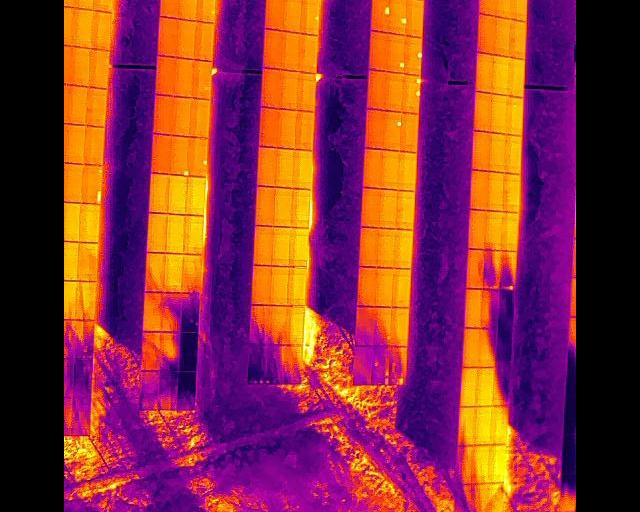Cell: (193, 58, 211, 98), (384, 110, 402, 150), (189, 137, 207, 176), (172, 136, 189, 176), (373, 305, 390, 345), (302, 0, 320, 34), (389, 32, 404, 72), (390, 0, 407, 35), (372, 0, 390, 32)
Cell-Multi: (82, 165, 102, 203), (403, 73, 420, 113), (404, 35, 421, 75), (390, 345, 407, 383), (374, 345, 389, 383), (197, 0, 216, 23)
No-Anomaly: (88, 47, 110, 87), (70, 8, 93, 46), (79, 203, 101, 242), (87, 85, 108, 125), (66, 86, 88, 124), (188, 98, 209, 137), (69, 46, 89, 86), (251, 265, 271, 305), (148, 212, 168, 252), (151, 133, 171, 173), (64, 125, 85, 163), (370, 29, 389, 71), (253, 226, 273, 265), (257, 147, 277, 186), (149, 173, 169, 212), (85, 125, 105, 164), (92, 9, 112, 48), (156, 55, 175, 95), (255, 185, 274, 225), (159, 17, 178, 56), (175, 57, 194, 96), (184, 213, 203, 252), (259, 108, 278, 147), (264, 29, 283, 68), (291, 188, 310, 227), (393, 267, 412, 306), (385, 71, 403, 112), (296, 111, 315, 149), (80, 242, 99, 280), (167, 213, 185, 253), (271, 265, 289, 305), (276, 147, 294, 187), (289, 265, 307, 305), (381, 188, 399, 228), (398, 150, 416, 190), (473, 443, 491, 483), (183, 252, 201, 291), (278, 108, 296, 147), (280, 70, 298, 109), (492, 405, 510, 444), (503, 172, 521, 211), (289, 226, 307, 265), (300, 33, 318, 72), (378, 227, 396, 266), (470, 170, 488, 209), (474, 92, 492, 131), (477, 15, 495, 54), (178, 17, 195, 58), (365, 147, 382, 188), (369, 69, 386, 110), (64, 163, 82, 201), (154, 95, 172, 133), (172, 96, 189, 136), (282, 30, 299, 70), (294, 148, 311, 188), (359, 266, 376, 306), (361, 226, 378, 266), (368, 109, 385, 149), (402, 111, 419, 151), (472, 131, 489, 171), (165, 252, 182, 291), (187, 176, 204, 215), (195, 21, 212, 60), (263, 69, 280, 108), (288, 305, 305, 344), (486, 210, 503, 249), (493, 55, 510, 94), (506, 95, 523, 134), (299, 72, 316, 111), (376, 267, 393, 306), (392, 306, 409, 345), (398, 190, 415, 229), (460, 366, 477, 405), (466, 249, 483, 288), (468, 209, 485, 248), (477, 367, 494, 406), (382, 148, 398, 189), (169, 175, 186, 213), (395, 229, 412, 267), (475, 405, 492, 443), (476, 53, 493, 91), (273, 225, 289, 265), (490, 132, 506, 172), (64, 240, 80, 280), (463, 326, 479, 366), (275, 187, 291, 226), (491, 444, 507, 483), (506, 134, 522, 173), (364, 188, 380, 227), (465, 288, 481, 327), (509, 57, 525, 95), (510, 18, 525, 58), (64, 202, 80, 239), (488, 171, 503, 210), (503, 211, 518, 250), (407, 0, 423, 36), (495, 17, 510, 55), (283, 0, 301, 31), (492, 93, 506, 132), (64, 280, 77, 319), (266, 0, 283, 29), (180, 0, 197, 21), (161, 0, 179, 18), (512, 0, 528, 18), (479, 0, 497, 15), (497, 0, 512, 17), (95, 0, 114, 13), (74, 0, 95, 8)
Shadowing: (248, 344, 268, 383), (160, 370, 179, 410), (181, 291, 200, 331), (250, 305, 270, 343), (143, 330, 162, 370), (162, 291, 181, 330), (73, 396, 92, 435), (77, 280, 96, 319), (76, 319, 95, 357), (355, 345, 374, 383), (162, 330, 180, 370), (74, 357, 92, 397), (147, 251, 165, 291), (356, 305, 374, 345), (180, 331, 198, 370), (270, 305, 288, 344), (145, 291, 163, 330), (179, 370, 196, 410), (268, 343, 285, 383), (143, 369, 160, 409), (500, 250, 517, 288), (484, 248, 500, 288), (494, 327, 510, 367), (286, 344, 302, 383), (496, 288, 512, 327), (456, 445, 472, 483), (459, 406, 475, 444), (495, 367, 510, 406), (479, 327, 494, 366), (481, 288, 496, 327), (473, 482, 491, 512), (491, 481, 505, 512)
